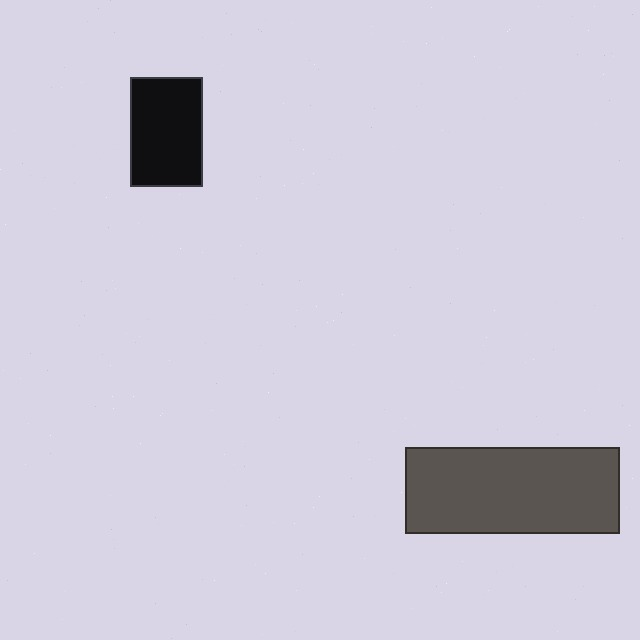concrete_damage: (405, 447, 619, 533)
phone: (130, 77, 274, 186)
